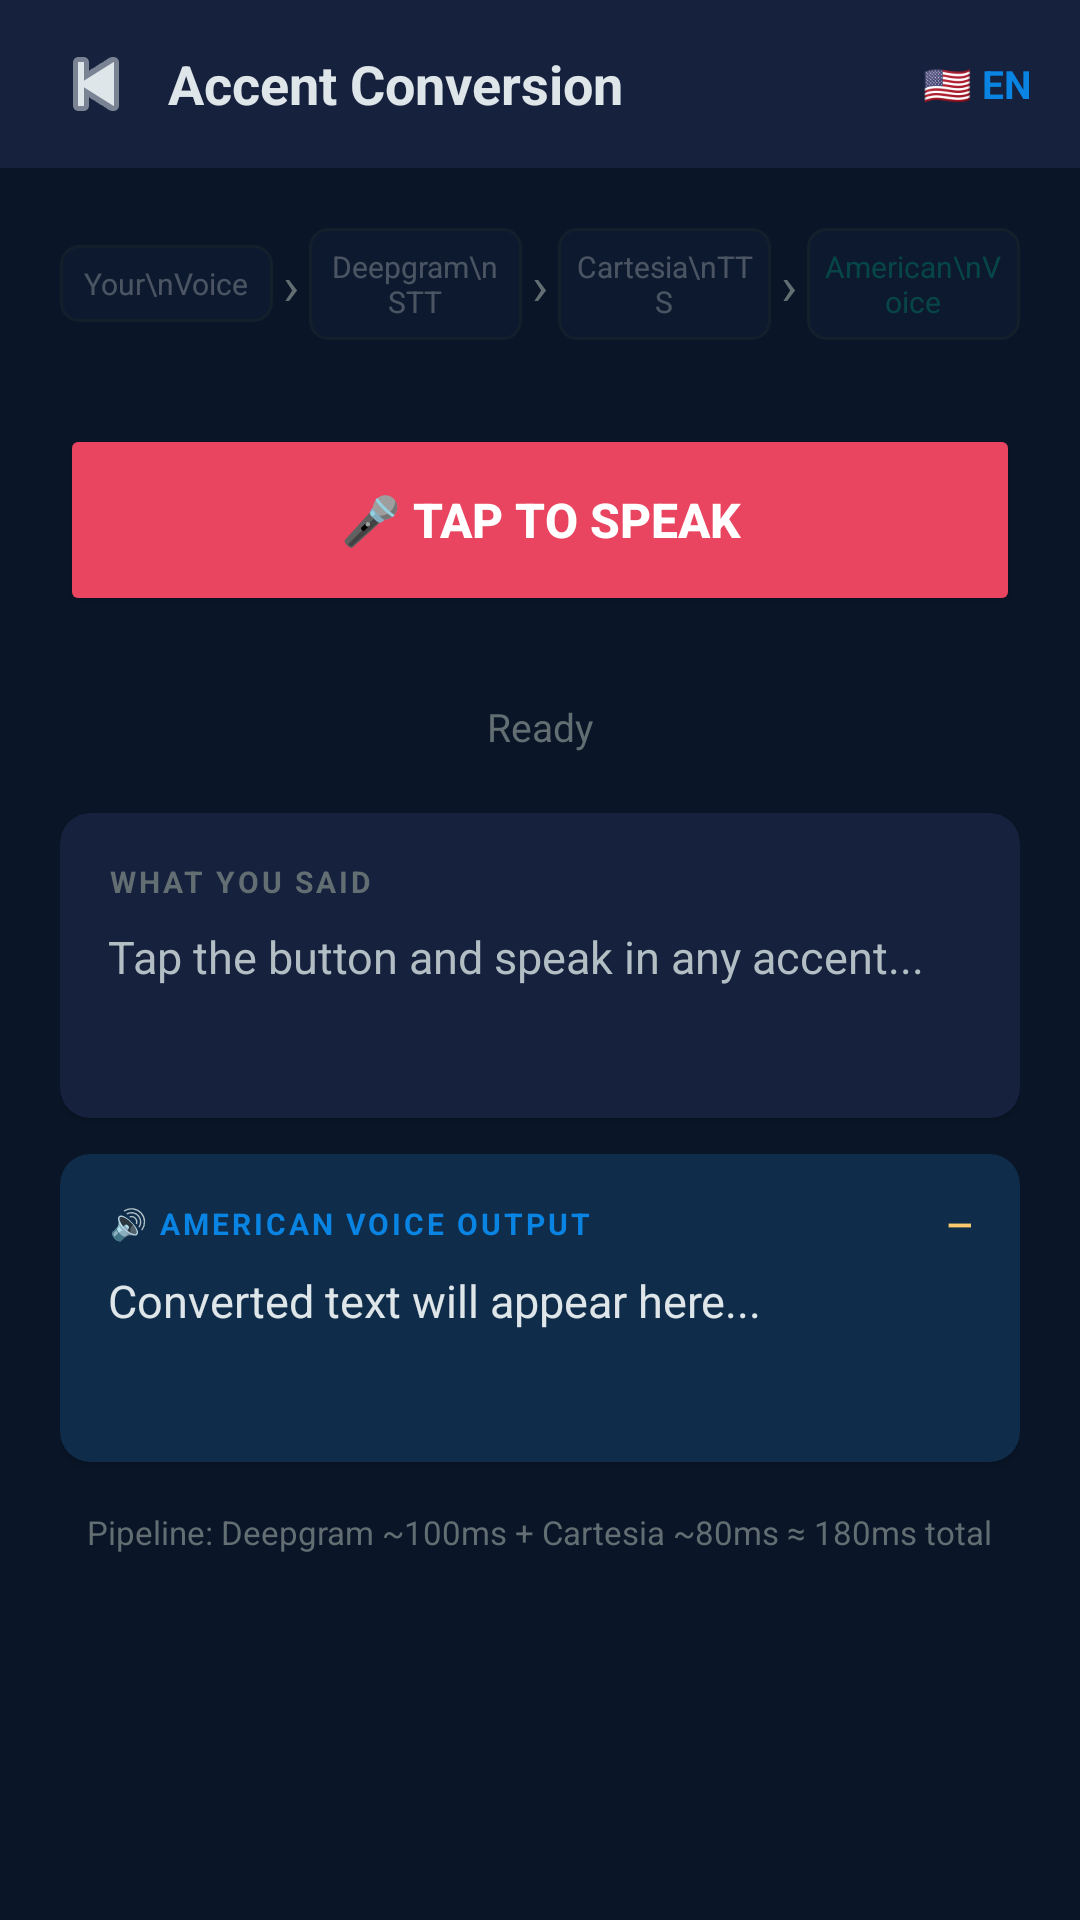

Locate icon controls on the screen. Image size 1080 × 1920, boxes as [x1=x1, y1=y1, x2=x2, y2=y2].
previous: [x1=73, y1=57, x2=119, y2=111]
